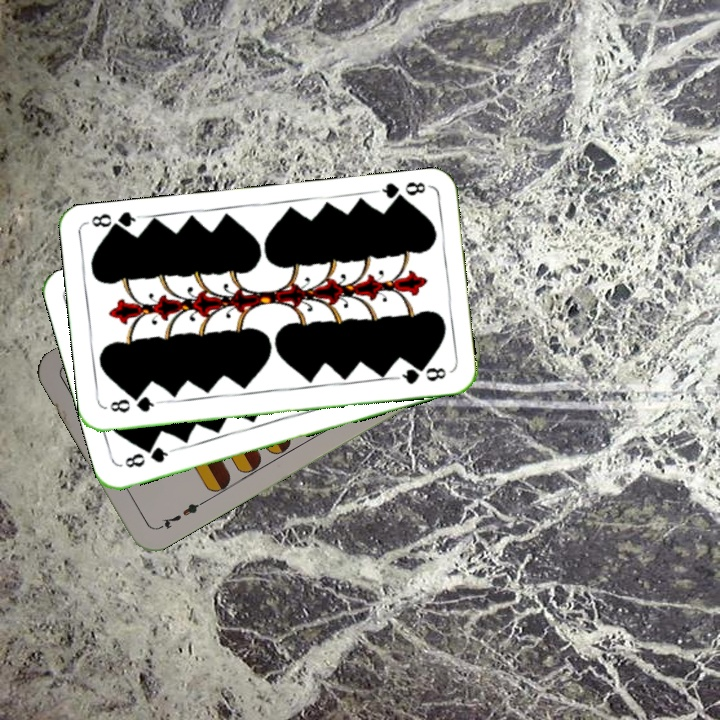E7: (153, 497, 207, 533)
G8: (372, 178, 431, 206), (120, 443, 176, 471), (106, 392, 162, 415)
